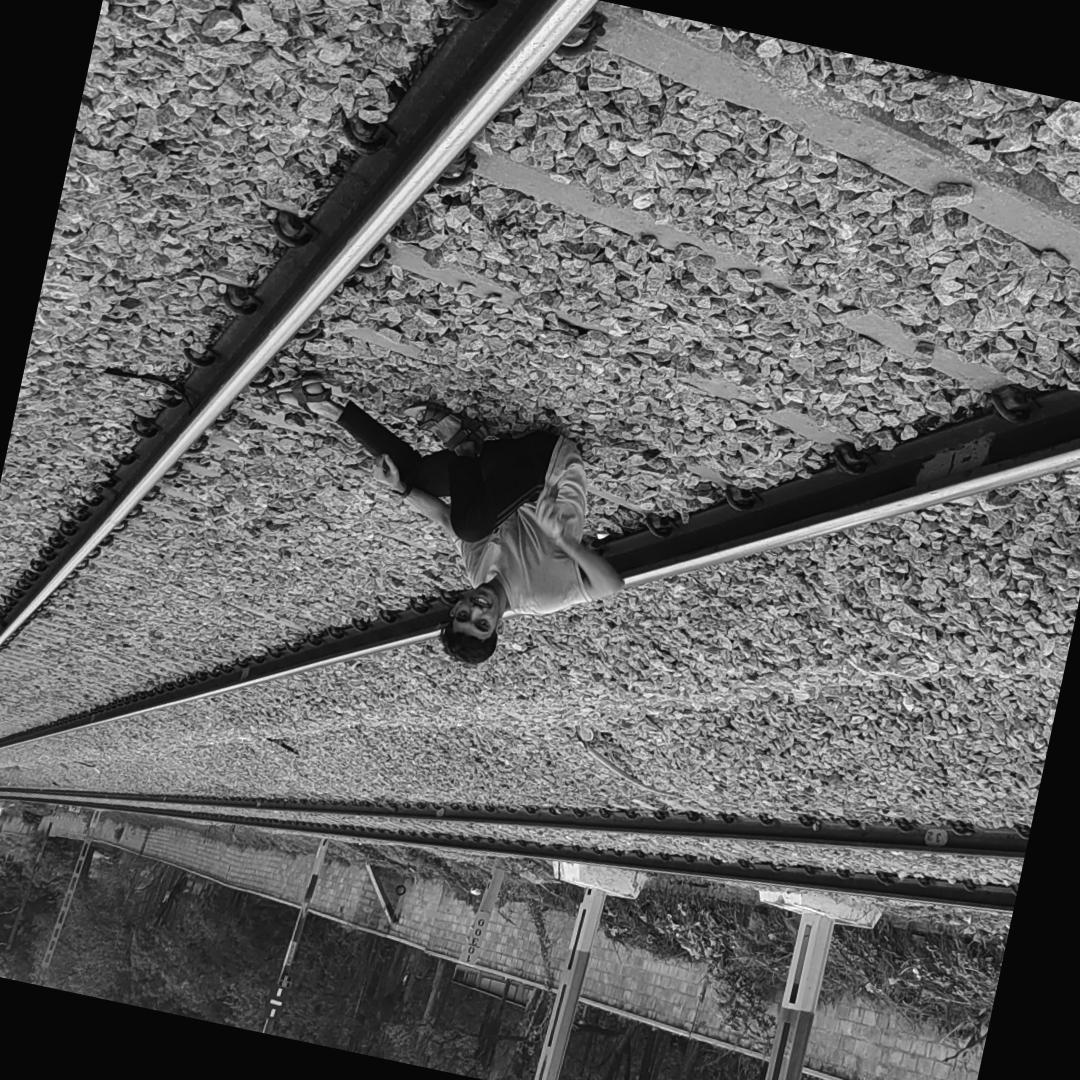sitting: (205, 332, 667, 687)
